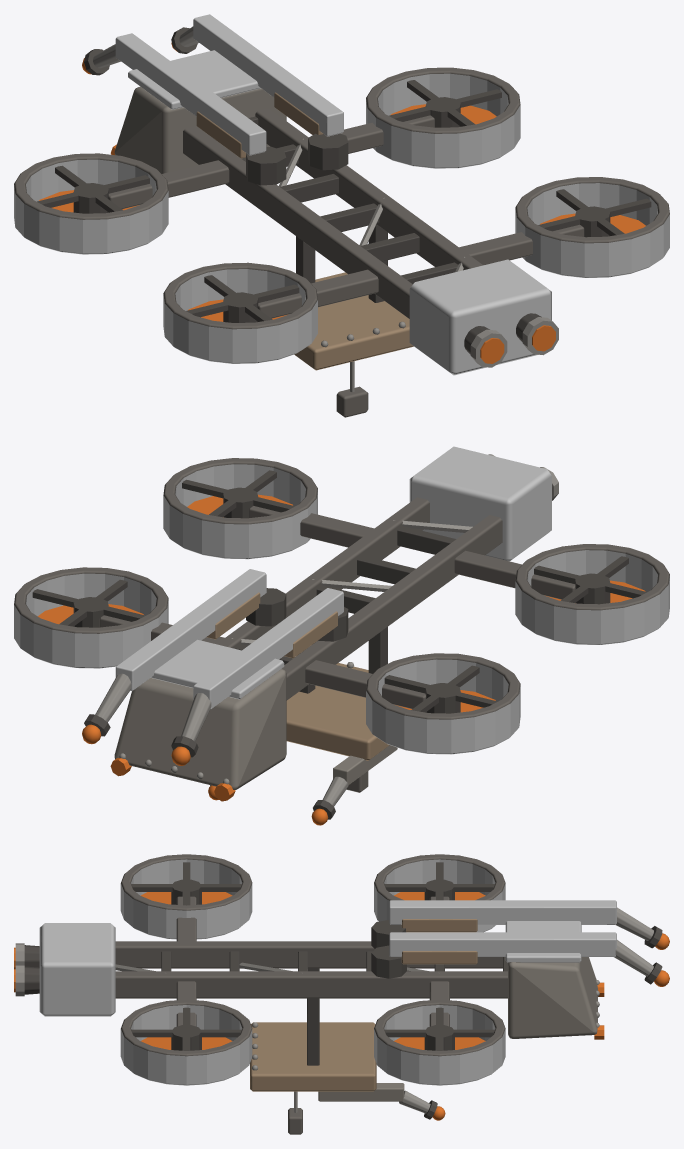
The model's file is crucible_builder_adv_air.glb.
3 views of the same model, one above another, from view 1: azimuth 30°, elevation 25°; view 2: azimuth 150°, elevation 25°; view 3: azimuth 270°, elevation 25° (orthographic). The views are drawn at different scales.
Parts seen in each view (by area): view 1: Body; view 2: Body; view 3: Body.
Part boxes in pixels (x1,y1,x2,y2): Body: [14, 14, 669, 417]; Body: [14, 446, 669, 825]; Body: [14, 854, 669, 1134].
Size of the model in its own units: 1.88 by 0.92 by 2.59.
